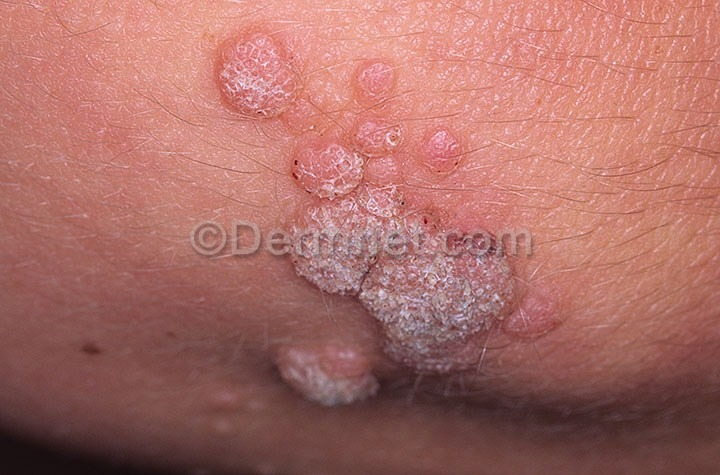Warts: (215, 22, 305, 131), (284, 129, 369, 204)
